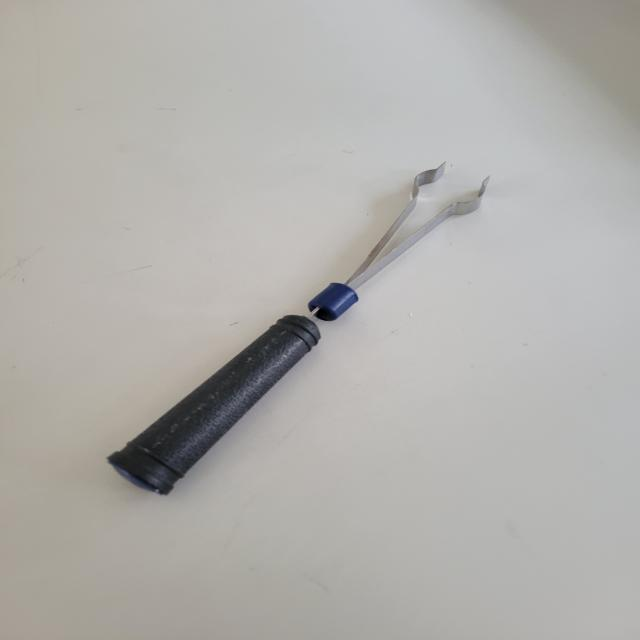TestTube_Holder: (81, 124, 517, 543)
